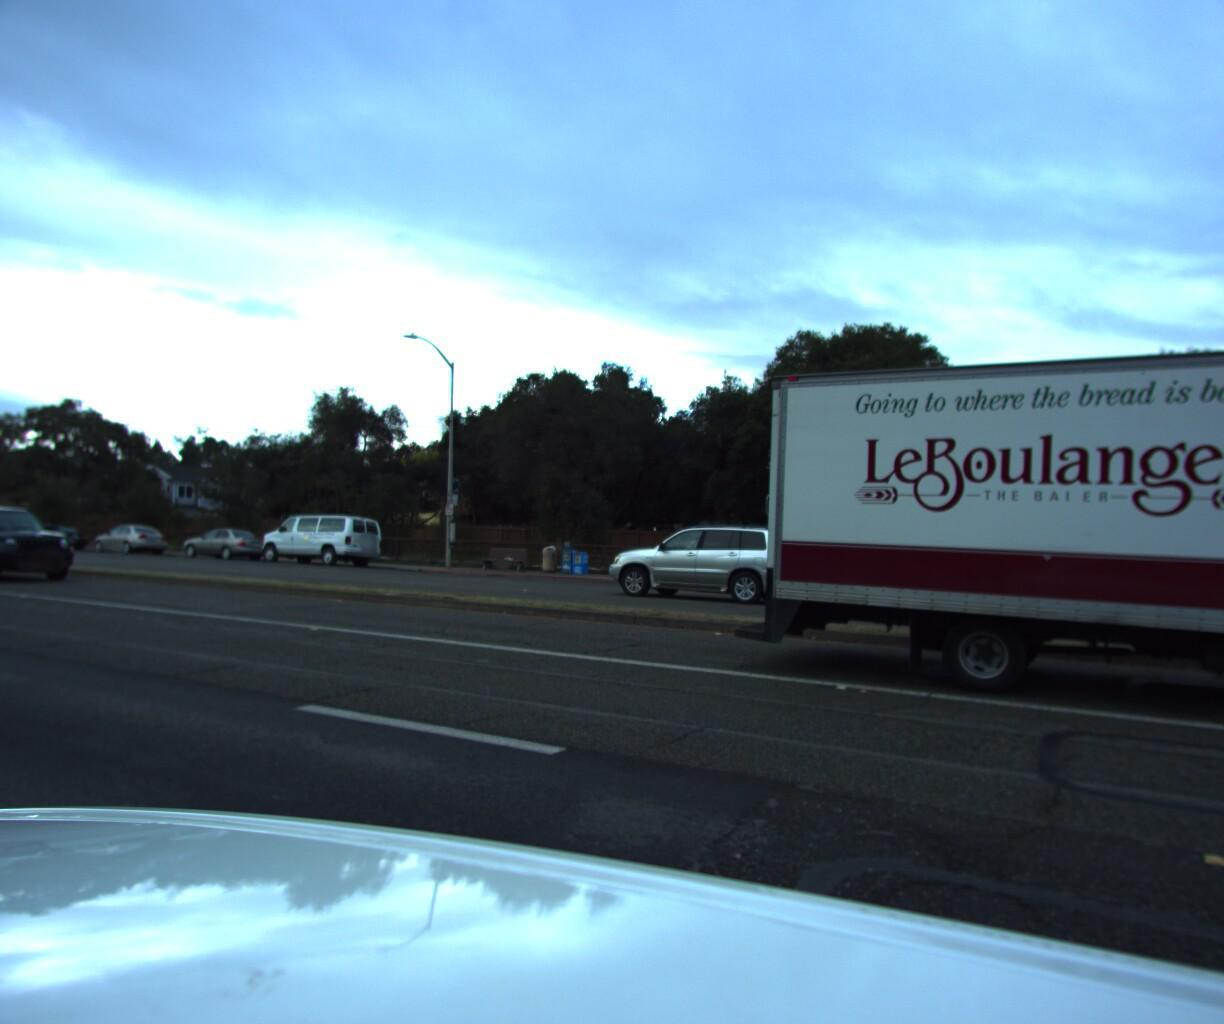car: (600, 514, 803, 608), (257, 505, 385, 564), (0, 496, 86, 583), (176, 520, 274, 557), (89, 517, 174, 551), (13, 515, 91, 546)
truck: (723, 297, 1224, 808)
